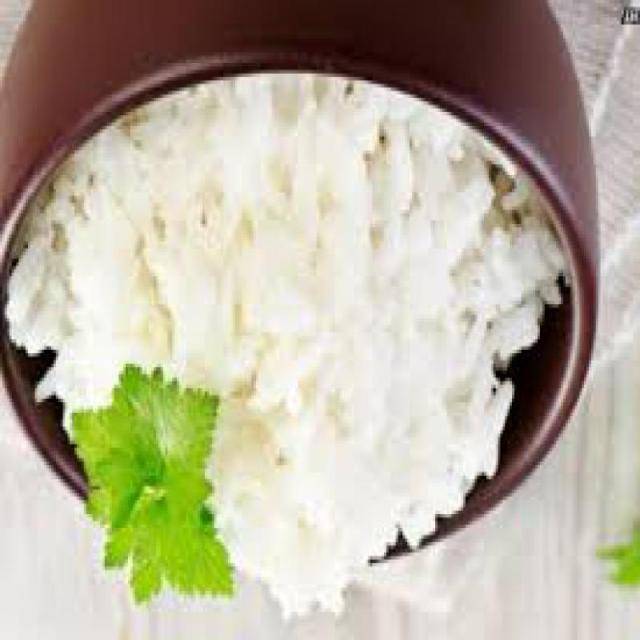nasi_putih: (2, 72, 568, 624)
